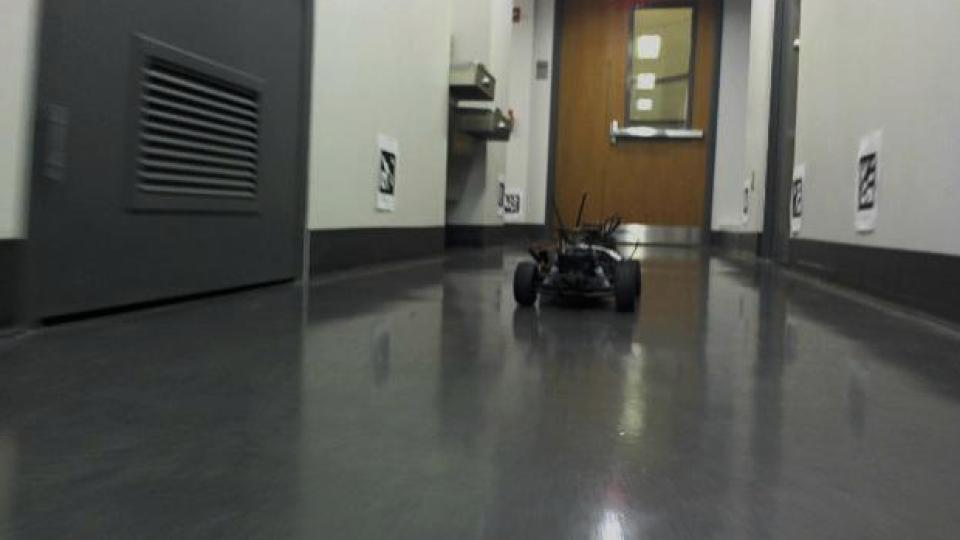car: (511, 188, 647, 315)
